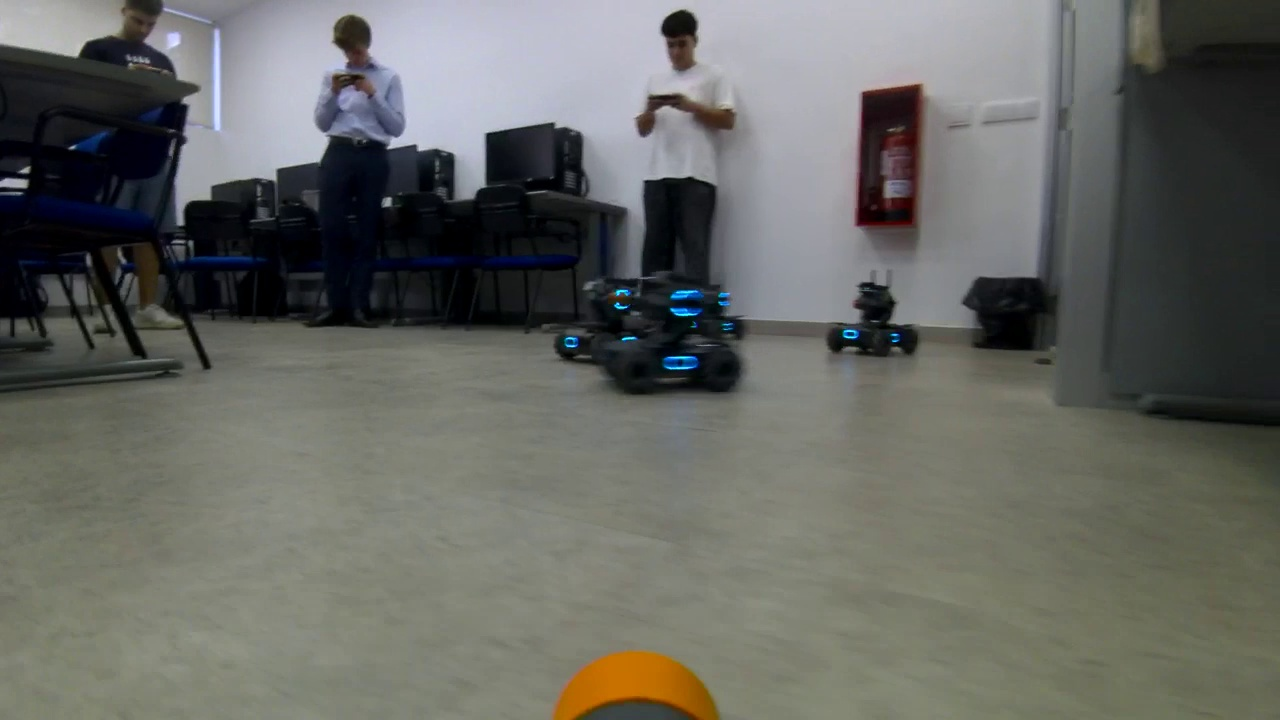robot: (605, 262, 745, 392), (553, 265, 670, 369), (822, 267, 924, 361)
